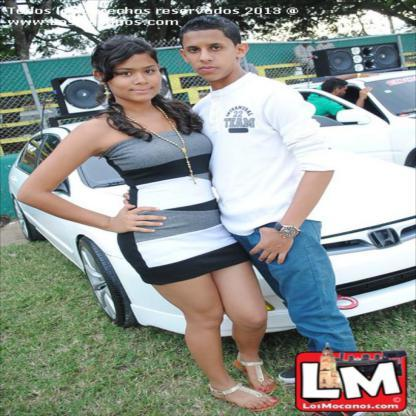car: (7, 95, 415, 340), (284, 71, 416, 168)
